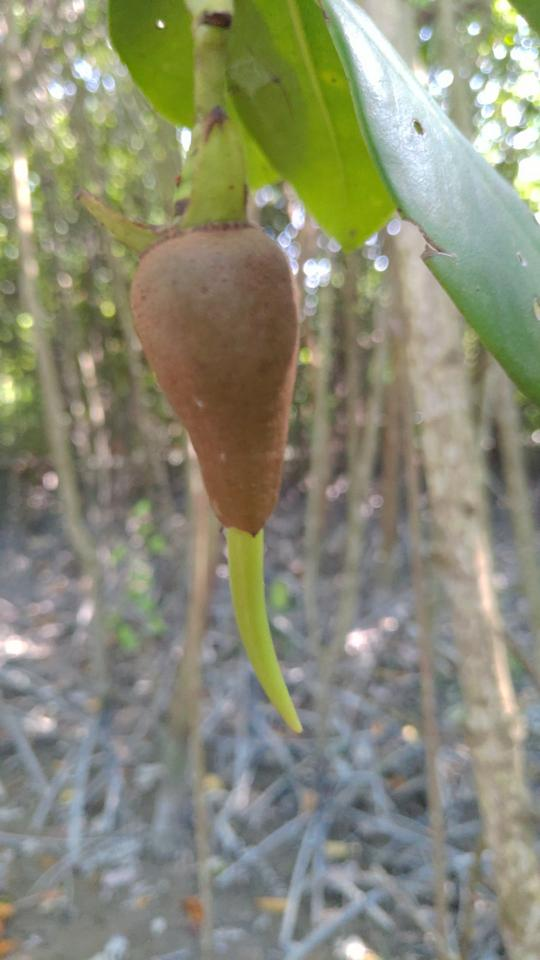mentah: (127, 215, 320, 751)
